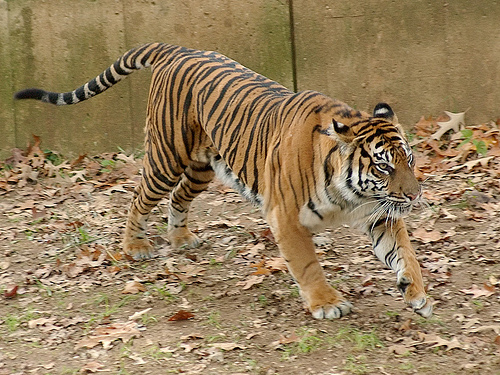Tigre: (104, 37, 444, 319)
